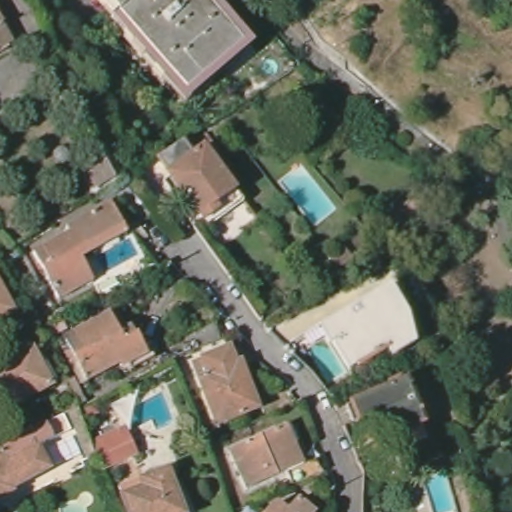pool: (278, 165, 337, 227), (83, 237, 137, 279), (125, 393, 176, 432), (304, 337, 346, 382), (423, 468, 458, 512), (258, 56, 283, 78)
